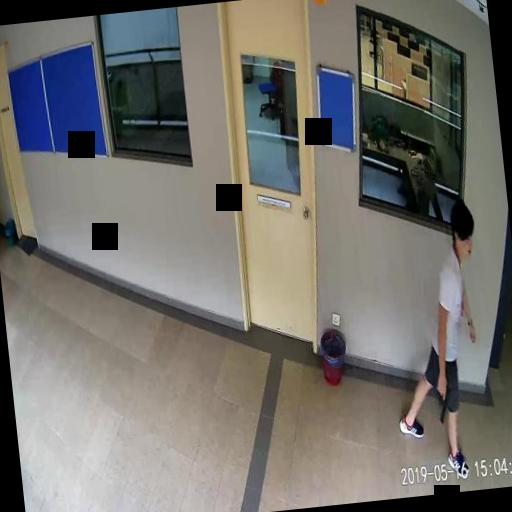Handgun: (434, 378, 452, 422)
